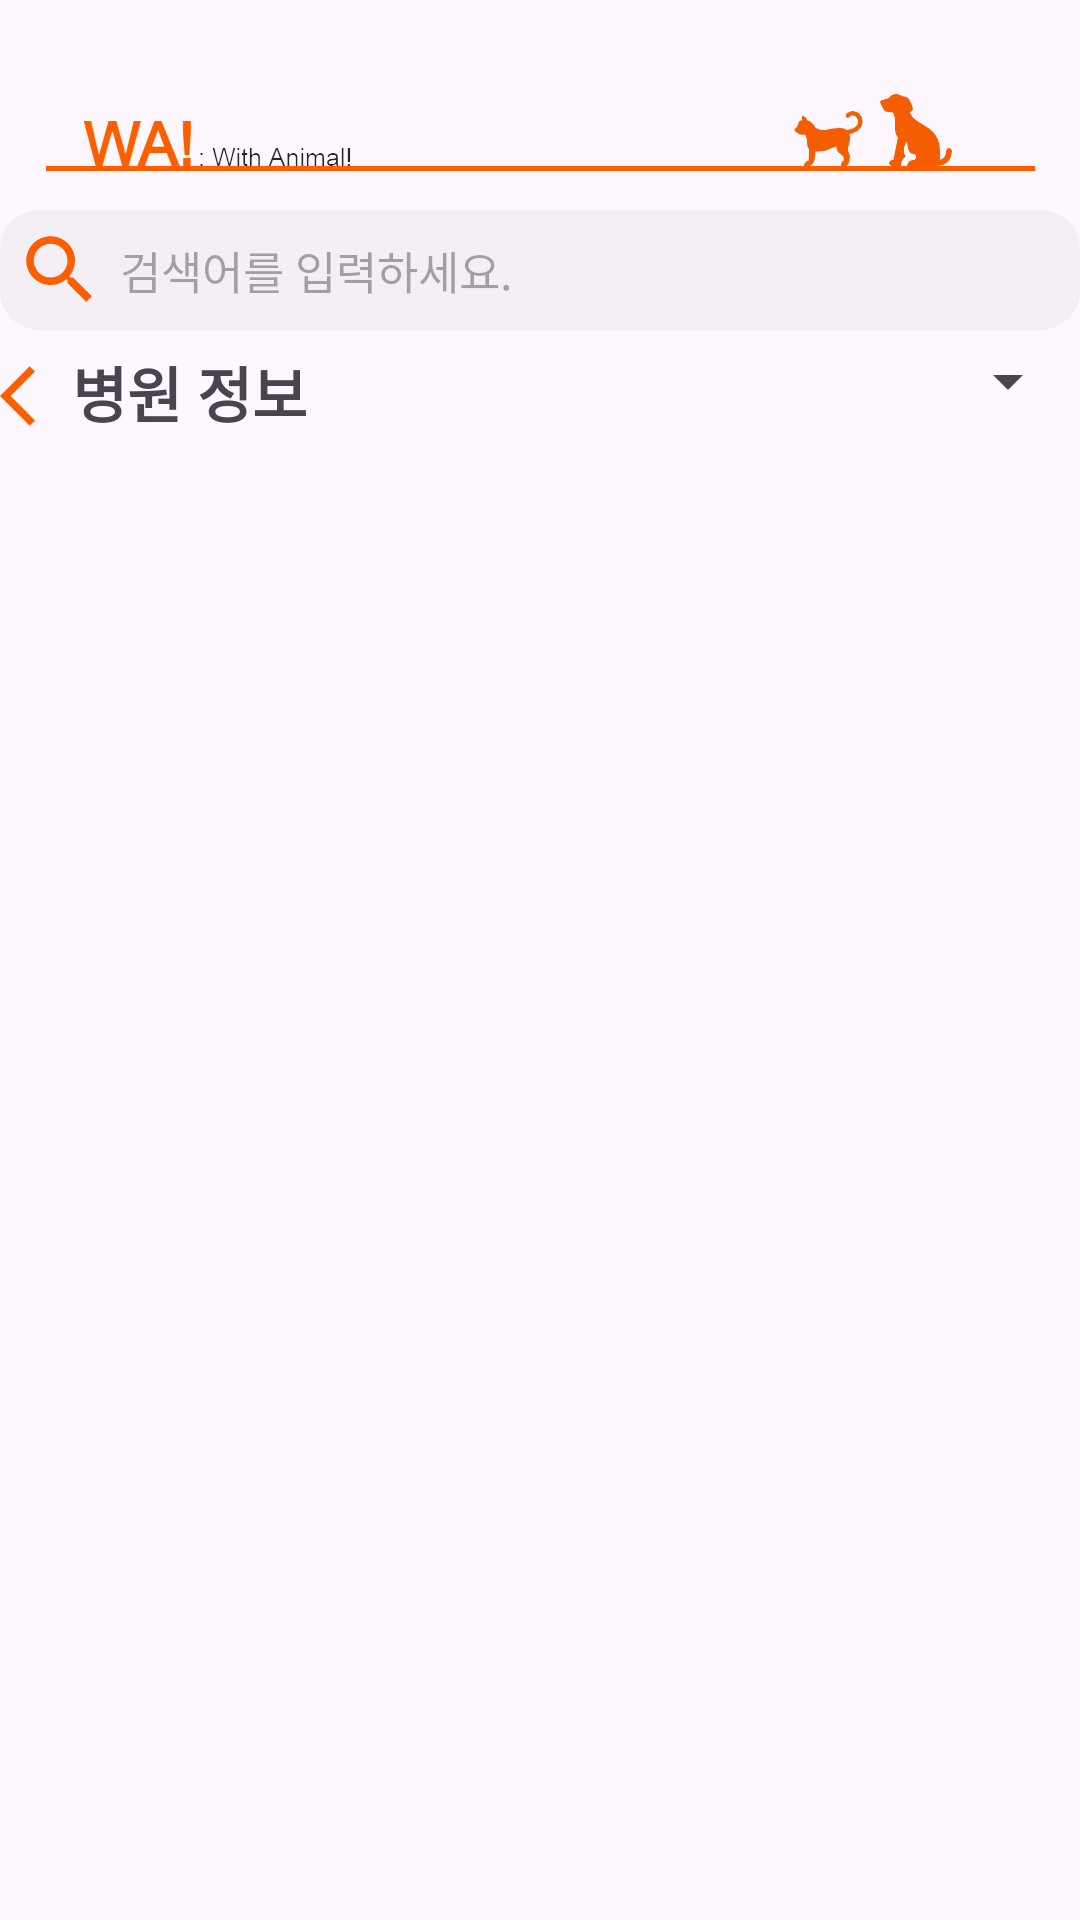

Named icons in this screenshot (1080*1920) and their centers, [x,y]:
arrow back: [17,396]
search: [59,269]
